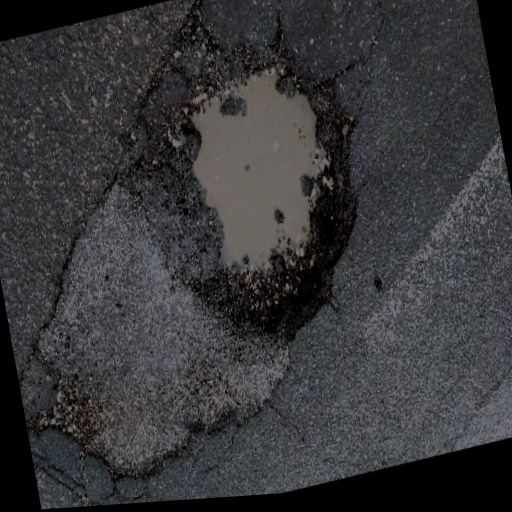pothole: (148, 19, 388, 374)
